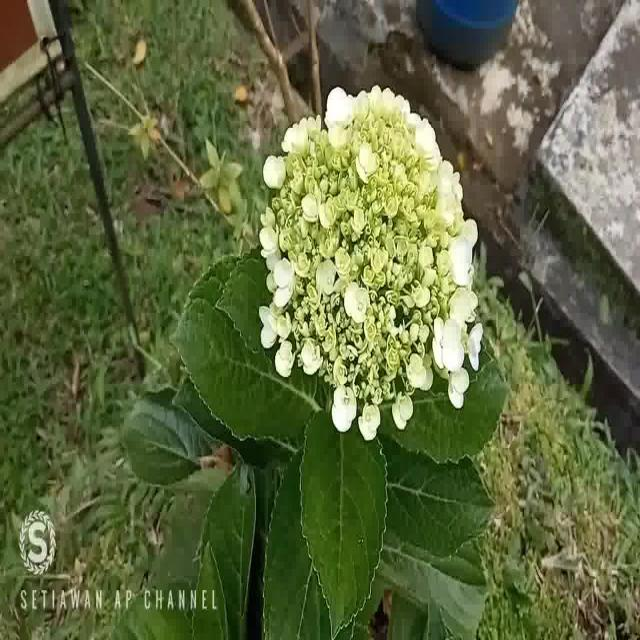Flower: (259, 77, 483, 446)
